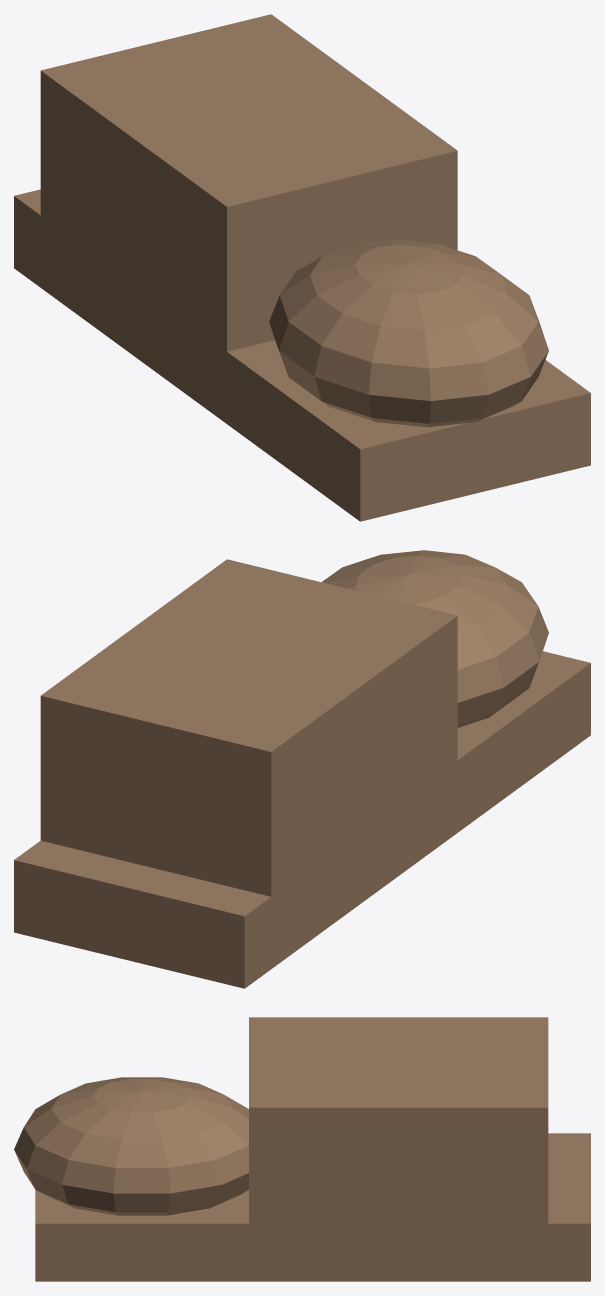
File: c_loafers.glb
3 views of the same model, one above another, from view 1: azimuth 30°, elevation 25°; view 2: azimuth 150°, elevation 25°; view 3: azimuth 270°, elevation 25° (orthographic). The views are drawn at different scales.
Parts seen in each view (by area): view 1: c_loafers; view 2: c_loafers; view 3: c_loafers.
Boxes of the visible parts, bbox=[...] form: c_loafers: bbox=[14, 14, 590, 521]; c_loafers: bbox=[14, 550, 590, 988]; c_loafers: bbox=[14, 1017, 590, 1281].
Size of the model in its own units: 0.1 by 0.09 by 0.27.
